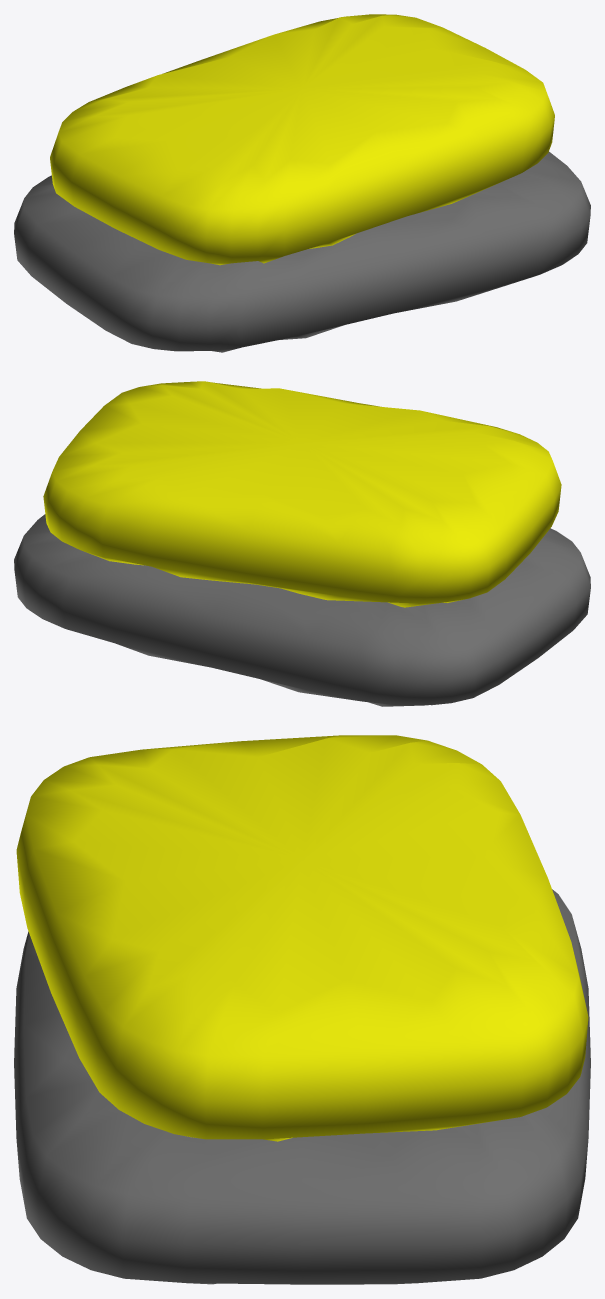
Rendered from Laundry_Clothes_1.fbx.
The picture shows the model from 3 angles, top to bottom: view 1: azimuth 30°, elevation 25°; view 2: azimuth 150°, elevation 25°; view 3: azimuth 270°, elevation 25°; orthographic projection. The views are drawn at different scales.
Visible parts, largest first — view 1: Laundry_Clothes_1; view 2: Laundry_Clothes_1; view 3: Laundry_Clothes_1.
Boxes of the visible parts, x1=… form: Laundry_Clothes_1: x1=14, y1=14, x2=590, y2=352; Laundry_Clothes_1: x1=14, y1=381, x2=590, y2=706; Laundry_Clothes_1: x1=14, y1=735, x2=590, y2=1284.
Bounding box in the file's own units: 70.08 × 26.08 × 47.08.
